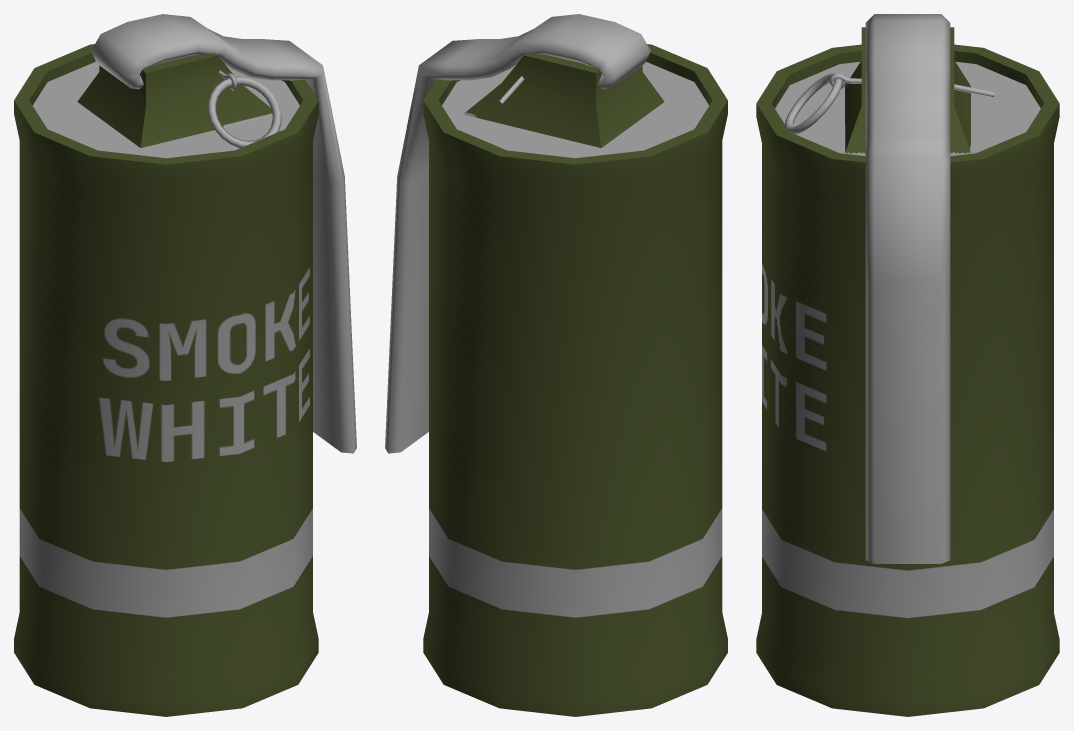
Rendered from grenade_w.fbx.
3 renders of one model, left to right at view 1: azimuth 30°, elevation 25°; view 2: azimuth 150°, elevation 25°; view 3: azimuth 270°, elevation 25°, orthographic.
Visible parts, largest first — view 1: Cylinder, NurbsPath, Torus.001; view 2: Cylinder, NurbsPath; view 3: Cylinder, NurbsPath, Torus.001, NurbsPath.001.
Part boxes in pixels (x1,y1,x2,y2): Cylinder: (14,44,318,716); NurbsPath: (91,14,356,453); Torus.001: (208,76,281,147); Cylinder: (423,44,727,716); NurbsPath: (385,14,650,453); Cylinder: (756,27,1059,716); NurbsPath: (865,14,950,563); Torus.001: (785,73,842,134); NurbsPath.001: (829,73,995,97).
Bounding box in the file's own units: 11.59 × 22.59 × 10.
